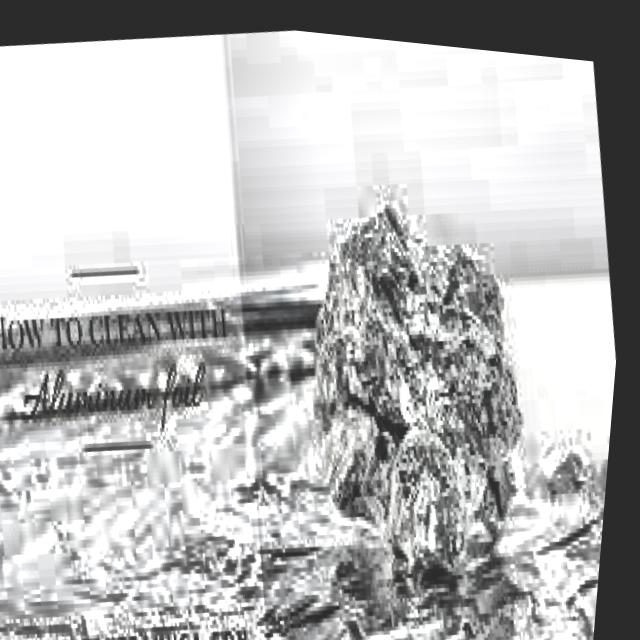Foil: (273, 162, 561, 581)
